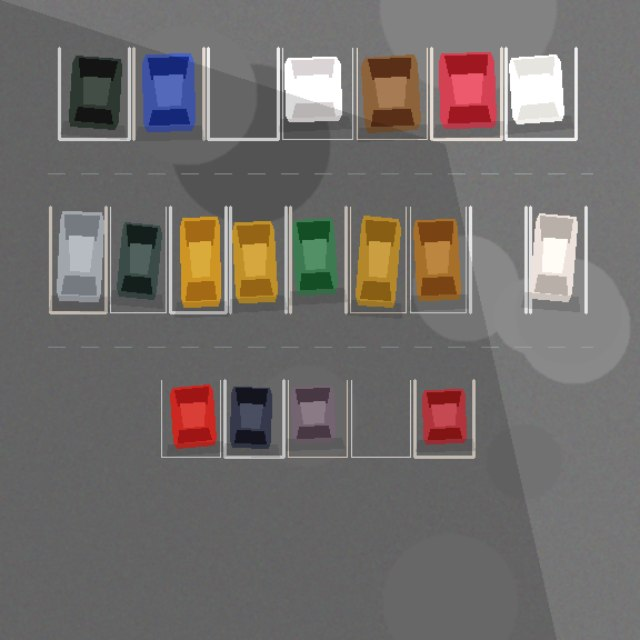space-empty: (208, 48, 278, 139), (470, 207, 526, 312), (351, 380, 410, 457)
space-occupied: (59, 48, 129, 139), (133, 48, 203, 139), (282, 48, 352, 139), (357, 48, 427, 139), (431, 48, 501, 139), (506, 48, 576, 139), (50, 207, 106, 312), (110, 207, 166, 312), (170, 207, 226, 312), (230, 207, 286, 312), (290, 207, 346, 312), (350, 207, 406, 312), (410, 207, 466, 312), (530, 207, 586, 312), (161, 380, 220, 457), (224, 380, 283, 457), (288, 380, 347, 457), (414, 380, 473, 457)
